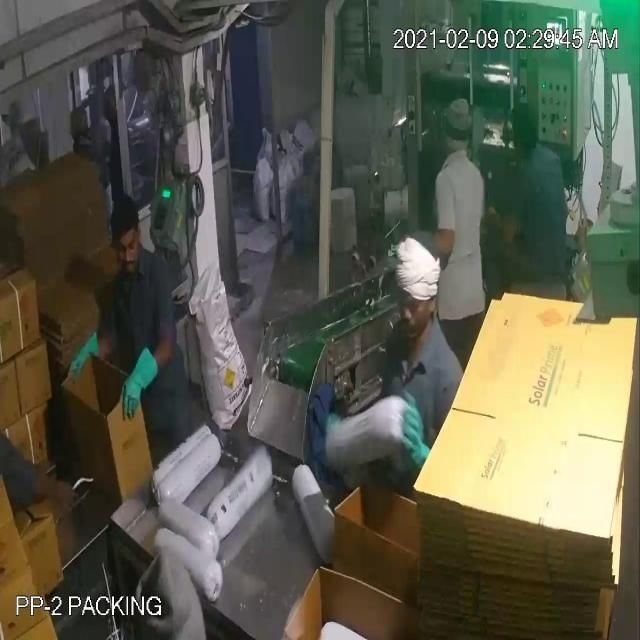Gloves: (32, 34, 438, 485)
